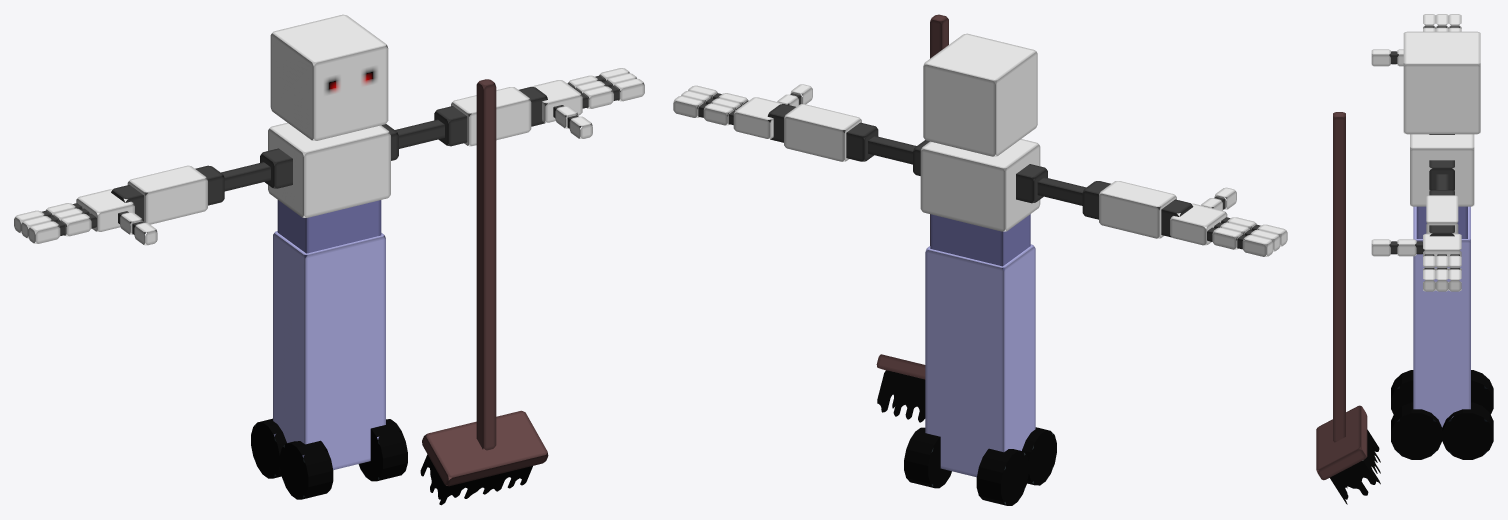
File: fnaph_cleaner.fbx
3 renders of one model, left to right at view 1: azimuth 30°, elevation 25°; view 2: azimuth 150°, elevation 25°; view 3: azimuth 270°, elevation 25°, orthographic. The views are drawn at different scales.
Visible parts, largest first — view 1: cube_48, cube_47, cube_1, cube_49, cube_50, cube, cube_27, cylinder_3, cube_5, cylinder, cube_51, cylinder_2 (+6 smaller); view 2: cube_48, cube_47, cube_1, cube, cube_5, cube_27, cylinder_2, cylinder_1, cube_51, cube_29, cylinder_3, cube_7 (+6 smaller); view 3: cube_48, cube_47, cube_49, cube_1, cube_50, cylinder, cylinder_1, cube_51, cube_5, cube_7, cylinder_3, cylinder_2 (+10 smaller).
Boxes of the visible parts, x1,y1,x2,y2 form: cube_48: (273, 231, 385, 469); cube_47: (270, 14, 388, 140); cube_1: (268, 122, 390, 217); cube_49: (476, 79, 496, 450); cube_50: (422, 410, 548, 486); cube: (277, 200, 381, 258); cube_27: (127, 165, 207, 224); cylinder_3: (279, 440, 333, 499); cube_5: (451, 87, 531, 146); cylinder: (358, 419, 407, 481); cube_51: (420, 454, 532, 505); cylinder_2: (251, 418, 286, 478); cube_48: (925, 244, 1035, 477); cube_47: (923, 33, 1037, 156); cube_1: (920, 139, 1040, 231); cube: (930, 214, 1030, 271); cube_5: (784, 104, 861, 161); cube_27: (1099, 181, 1176, 238); cylinder_2: (976, 448, 1028, 505); cylinder_1: (904, 427, 951, 488); cube_51: (877, 370, 925, 422); cube_29: (1170, 203, 1227, 245); cylinder_3: (1022, 427, 1056, 485); cube_7: (733, 97, 787, 138); cube_48: (1413, 206, 1470, 427); cube_47: (1403, 31, 1480, 134); cube_49: (1333, 112, 1345, 442); cube_1: (1410, 134, 1474, 206); cube_50: (1316, 405, 1367, 480); cylinder: (1391, 402, 1442, 459); cylinder_1: (1442, 402, 1493, 459); cube_51: (1330, 429, 1380, 504); cube_5: (1426, 195, 1458, 233); cube_7: (1423, 233, 1461, 267); cylinder_3: (1391, 370, 1413, 414); cylinder_2: (1471, 370, 1493, 414).
Size of the model in its own units: 306 by 212 by 86.24.
